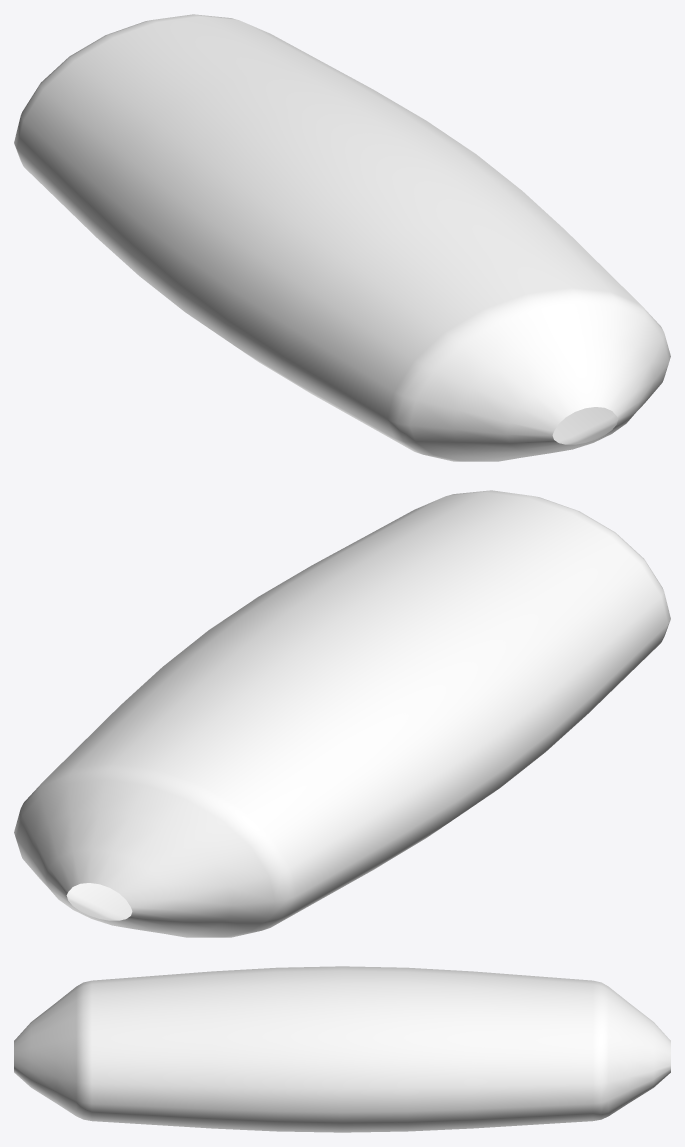
The model's file is Shield.fbx.
The picture shows the model from 3 angles, top to bottom: view 1: azimuth 30°, elevation 25°; view 2: azimuth 150°, elevation 25°; view 3: azimuth 270°, elevation 25°; orthographic projection. The views are drawn at different scales.
Parts seen in each view (by area): view 1: pCylinder5; view 2: pCylinder5; view 3: pCylinder5.
Boxes of the visible parts, x1,y1,x2,y2 form: pCylinder5: [14, 14, 670, 461]; pCylinder5: [14, 490, 670, 937]; pCylinder5: [14, 966, 670, 1132].
Size of the model in its own units: 10.78 by 5.8 by 27.38.
1 material, 1 textured.
